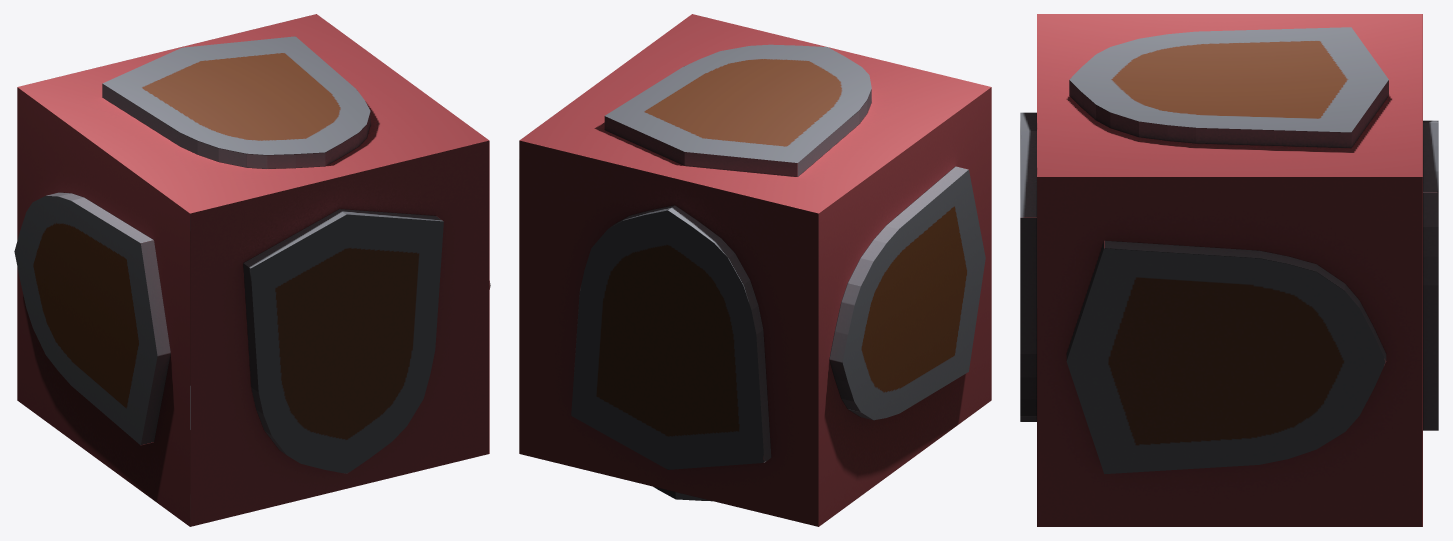
The model's file is negative-invincibility.obj.
3 renders of one model, left to right at view 1: azimuth 30°, elevation 25°; view 2: azimuth 150°, elevation 25°; view 3: azimuth 270°, elevation 25°, orthographic. The views are drawn at different scales.
Visible parts, largest first — view 1: Cube.019_Cube.052_Negative, Cube.019_Cube.052_Sword-blade, Cube.019_Cube.052_Sword-hilt; view 2: Cube.019_Cube.052_Negative, Cube.019_Cube.052_Sword-blade, Cube.019_Cube.052_Sword-hilt; view 3: Cube.019_Cube.052_Negative, Cube.019_Cube.052_Sword-blade, Cube.019_Cube.052_Sword-hilt.
Part boxes in pixels (x1=…): Cube.019_Cube.052_Negative: x1=17, y1=14, x2=489, y2=526; Cube.019_Cube.052_Sword-blade: x1=14, y1=36, x2=490, y2=473; Cube.019_Cube.052_Sword-hilt: x1=33, y1=52, x2=418, y2=439; Cube.019_Cube.052_Negative: x1=519, y1=14, x2=991, y2=526; Cube.019_Cube.052_Sword-blade: x1=571, y1=44, x2=985, y2=501; Cube.019_Cube.052_Sword-hilt: x1=596, y1=59, x2=967, y2=436; Cube.019_Cube.052_Negative: x1=1037, y1=14, x2=1422, y2=526; Cube.019_Cube.052_Sword-blade: x1=1020, y1=27, x2=1438, y2=474; Cube.019_Cube.052_Sword-hilt: x1=1107, y1=40, x2=1347, y2=445.
Size of the model in its own units: 2.18 by 2.18 by 2.17.
